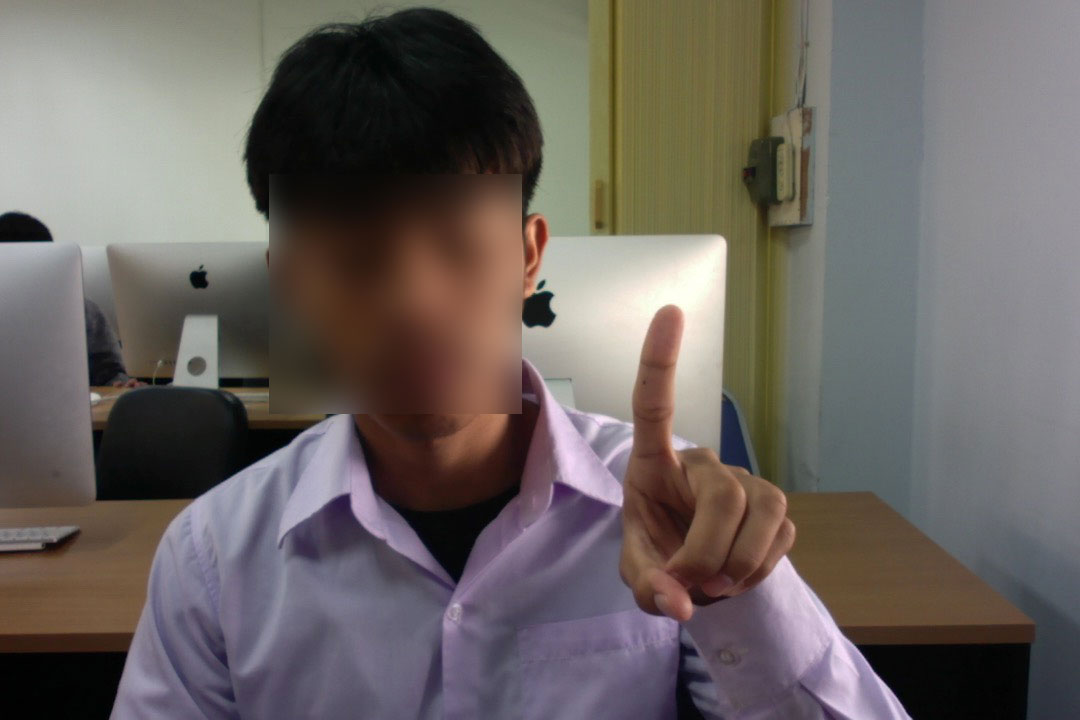dor: (603, 297, 799, 632)
